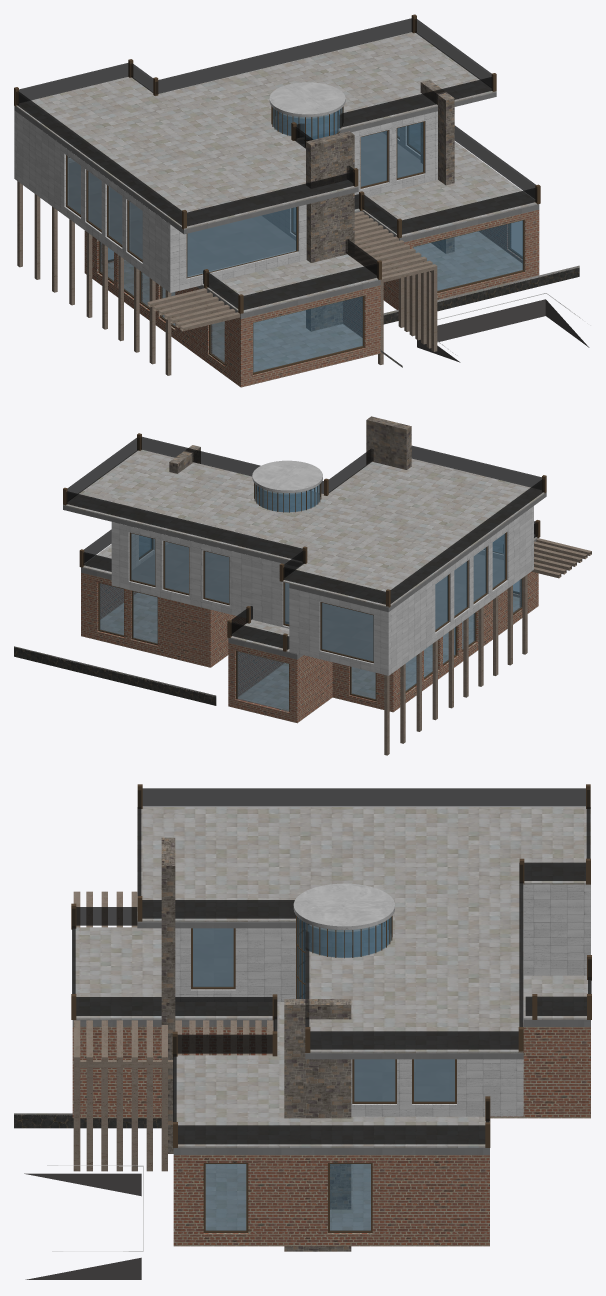
The model's file is sf-villa.glb.
3 renders of one model, top to bottom at view 1: azimuth 30°, elevation 25°; view 2: azimuth 150°, elevation 25°; view 3: azimuth 270°, elevation 25°, orthographic. The views are drawn at different scales.
Parts seen in each view (by area): view 1: House; view 2: House; view 3: House.
Part boxes in pixels (x1,y1,x2,y2): House: (14, 14, 589, 387); House: (14, 416, 591, 755); House: (14, 784, 591, 1279).
Bounding box in the file's own units: 17.46 × 8.5 × 15.12.
Materials: 13 (8 with a texture image).
